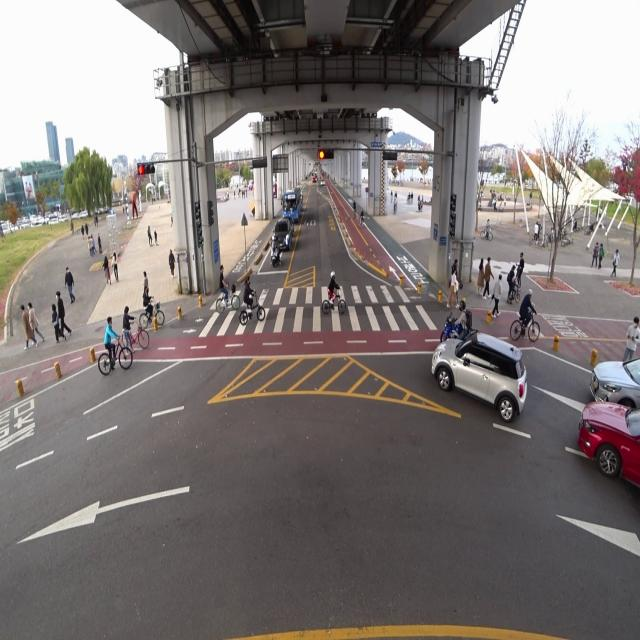Bus: (279, 183, 303, 223)
Car: (432, 320, 529, 433), (570, 382, 640, 503), (584, 341, 640, 412), (270, 213, 292, 255)
Motorcycle: (435, 297, 480, 343), (270, 232, 282, 266)
